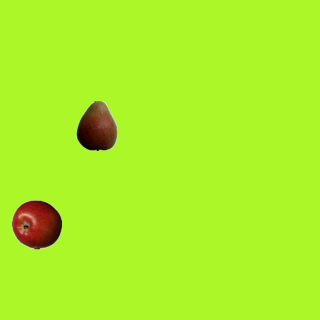Apple Braeburn: (11, 199, 61, 249)
Pear Forelle: (71, 100, 121, 150)
